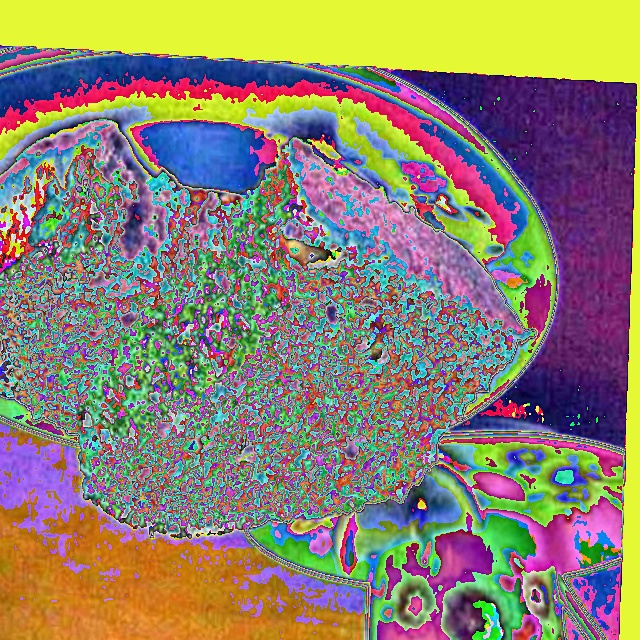background: (0, 118, 537, 578)
